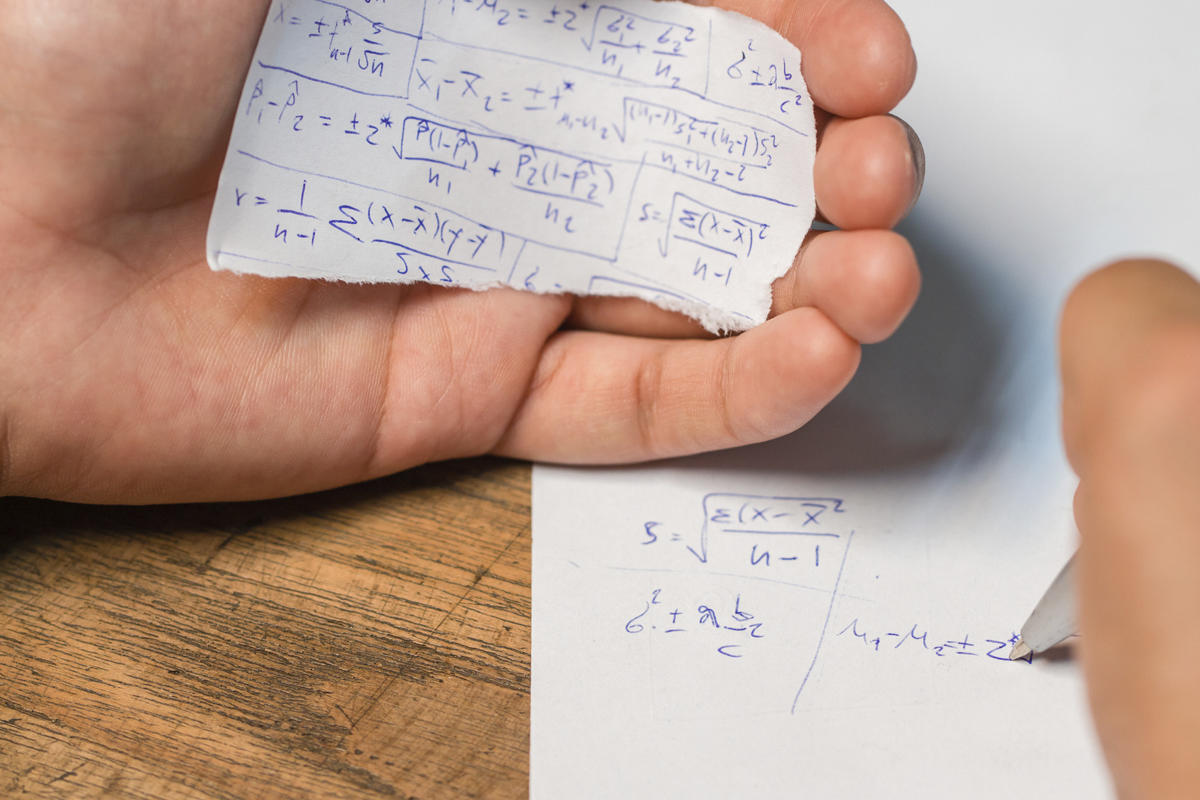Note: (219, 1, 819, 331)
